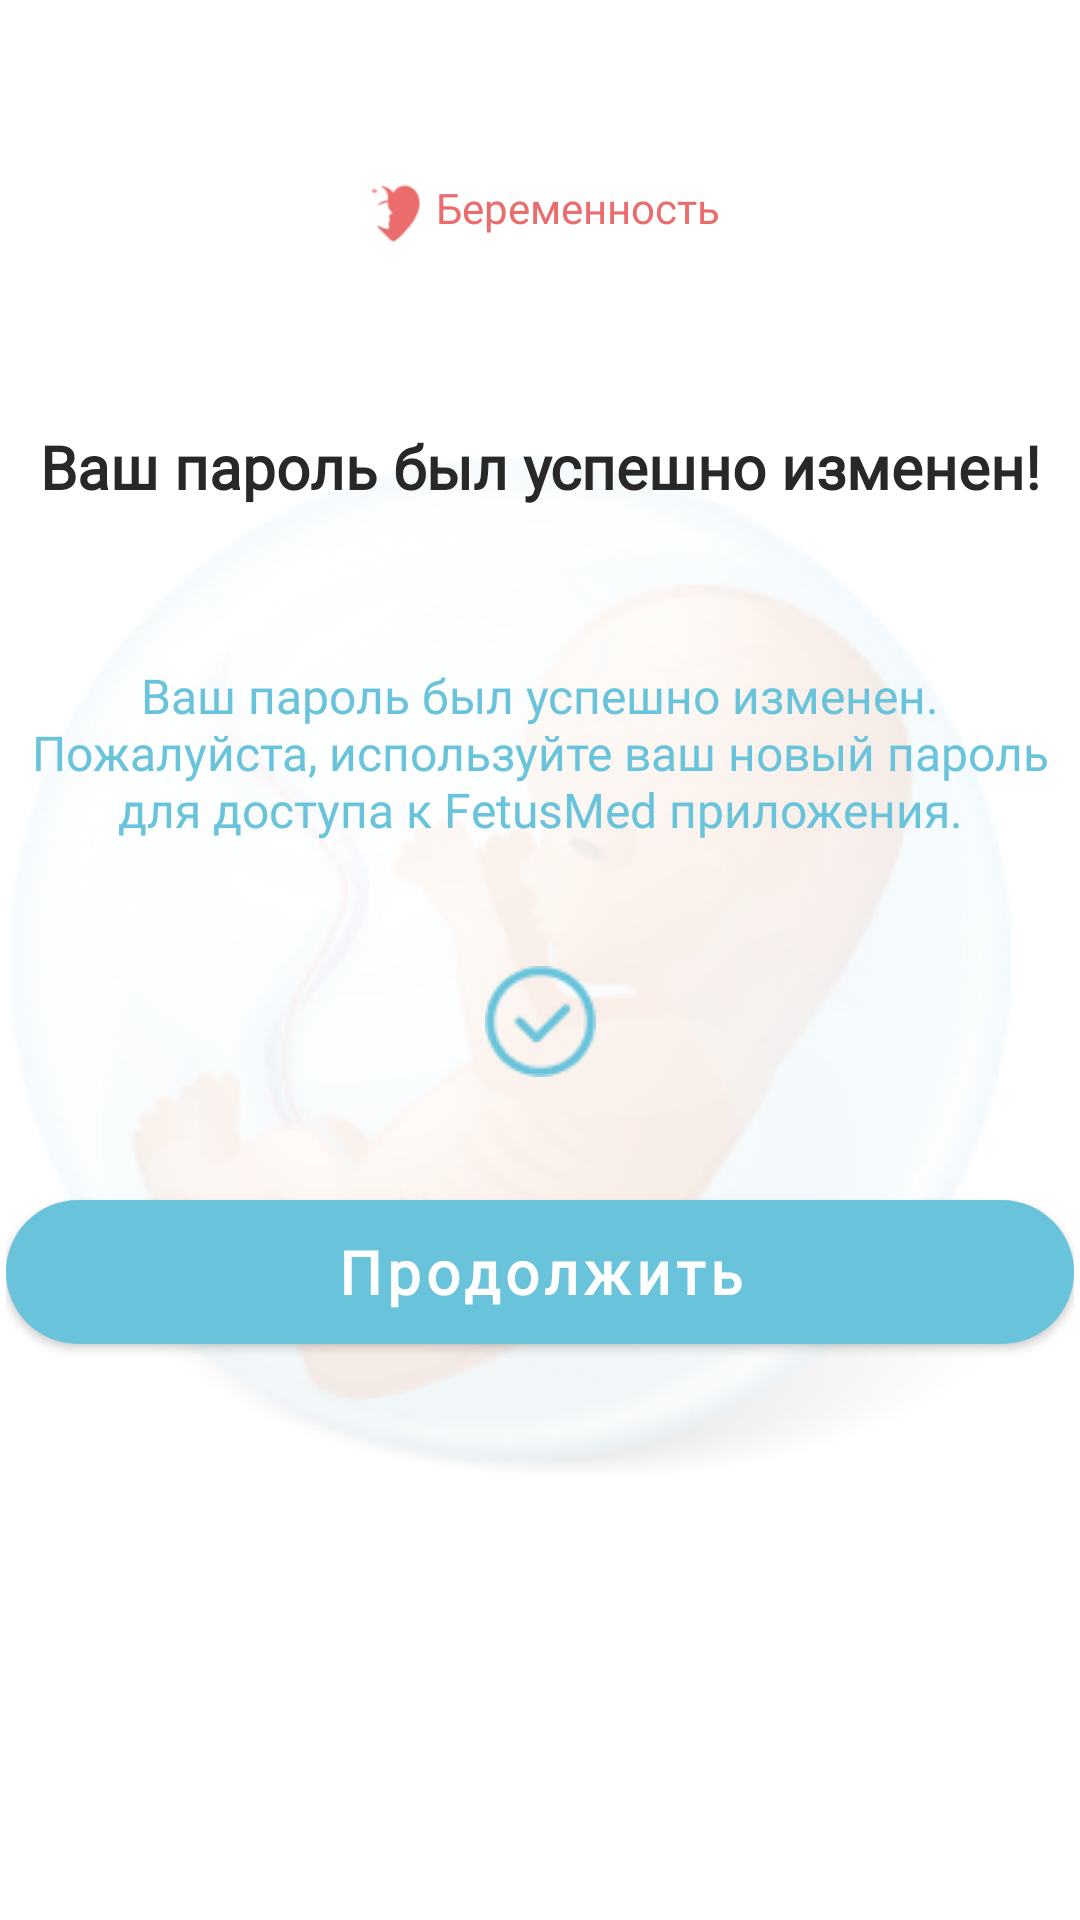

Where icons sit on this 1080 × 1920 app screen, as (x1, y1, x2, y2):
success: (485, 966, 596, 1077)
